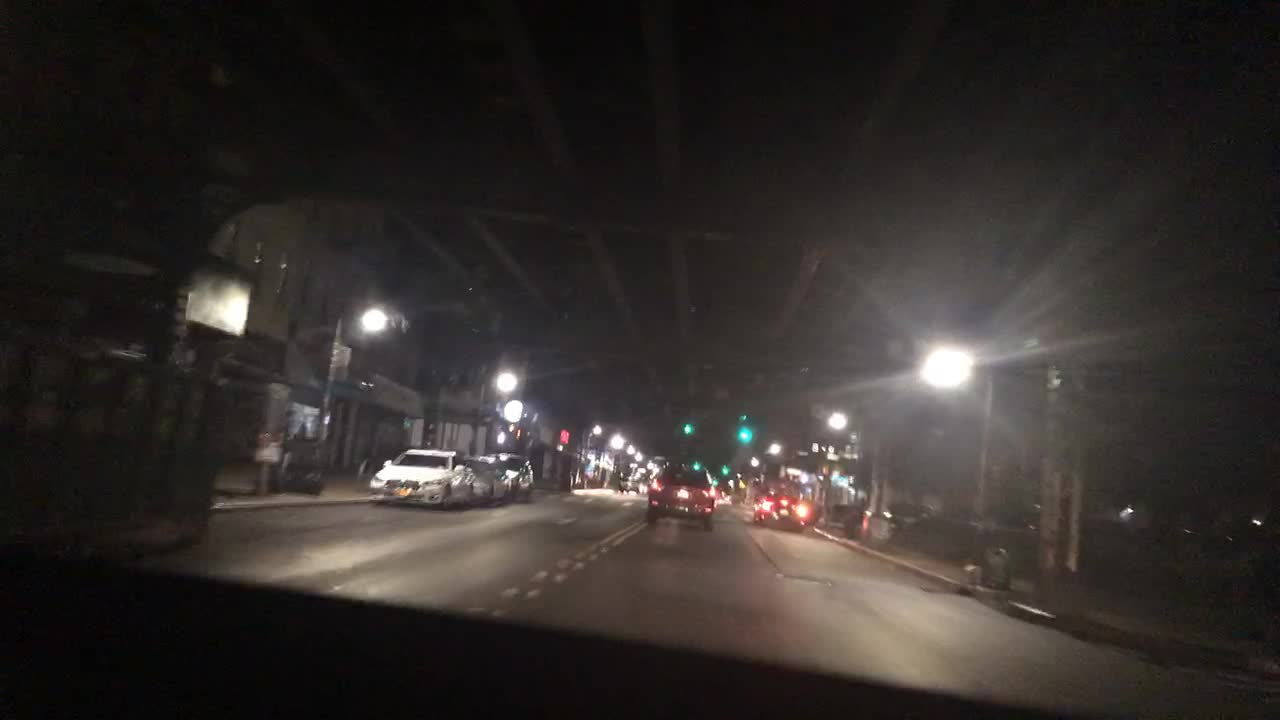car: (368, 445, 475, 510), (647, 469, 714, 530), (461, 458, 512, 501), (488, 451, 532, 497), (767, 494, 810, 528), (752, 492, 782, 522), (617, 473, 638, 491), (710, 487, 734, 502), (636, 477, 649, 491)
traffic light: (737, 424, 750, 441), (682, 420, 693, 435), (719, 464, 730, 477), (688, 457, 701, 468)
traffic sign: (254, 432, 282, 461), (332, 344, 350, 381)
